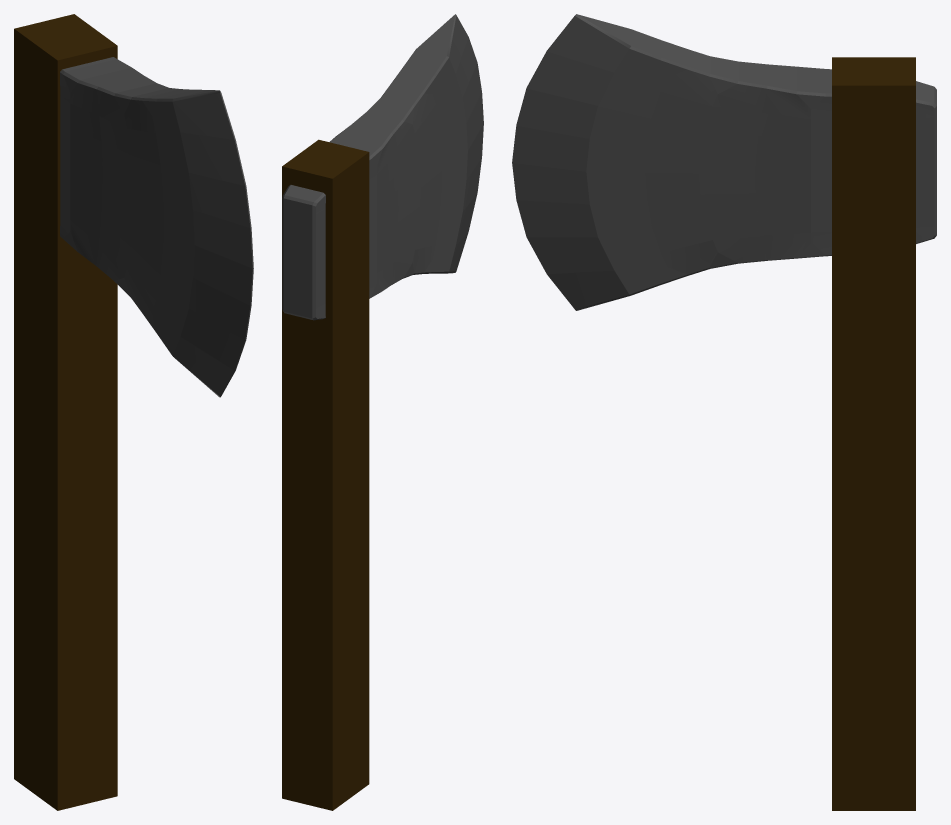
Rendered from Bonito Factory axe final.fbx.
3 views of the same model, side by side, from view 1: azimuth 30°, elevation 25°; view 2: azimuth 150°, elevation 25°; view 3: azimuth 270°, elevation 25° (orthographic). The views are drawn at different scales.
Parts seen in each view (by area): view 1: Cube.003; view 2: Cube.003; view 3: Cube.003.
Boxes of the visible parts, x1,y1,x2,y2 form: Cube.003: (14,14,253,810); Cube.003: (282,14,483,810); Cube.003: (512,14,936,810).
Size of the model in its own units: 160 by 2057 by 1012.
